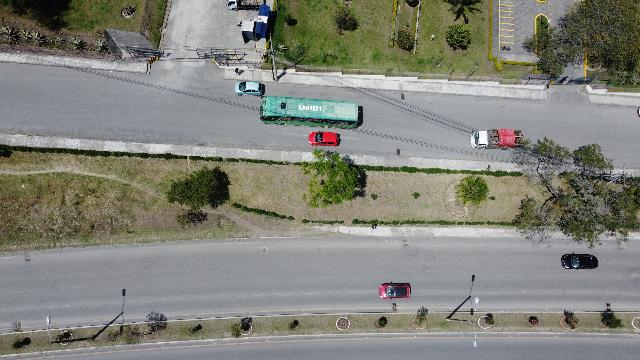Vehiculo: (561, 254, 598, 269), (379, 282, 411, 298), (234, 82, 266, 96), (309, 132, 341, 146)
